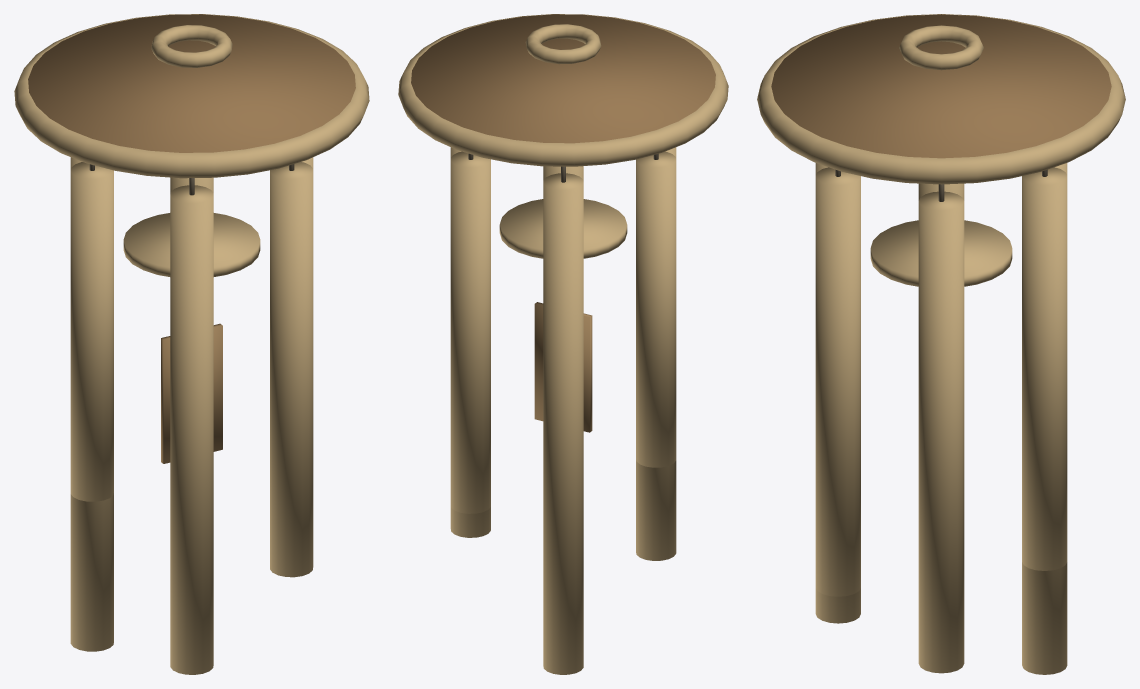
Rendered from wind_chime.glb.
3 views of the same model, side by side, from view 1: azimuth 30°, elevation 25°; view 2: azimuth 150°, elevation 25°; view 3: azimuth 270°, elevation 25° (orthographic). The views are drawn at different scales.
Parts seen in each view (by area): view 1: wind_chime; view 2: wind_chime; view 3: wind_chime.
Part boxes in pixels (x1,y1,x2,y2): wind_chime: (14,14,369,674); wind_chime: (398,14,728,674); wind_chime: (757,14,1125,674).
Bounding box in the file's own units: 0.13 × 0.253 × 0.13.
